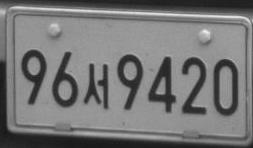0: (212, 57, 240, 117)
2: (181, 56, 207, 115)
4: (148, 56, 177, 113)
6: (51, 50, 79, 107)
9: (116, 53, 144, 111), (20, 48, 47, 105)
서: (83, 62, 109, 109)
